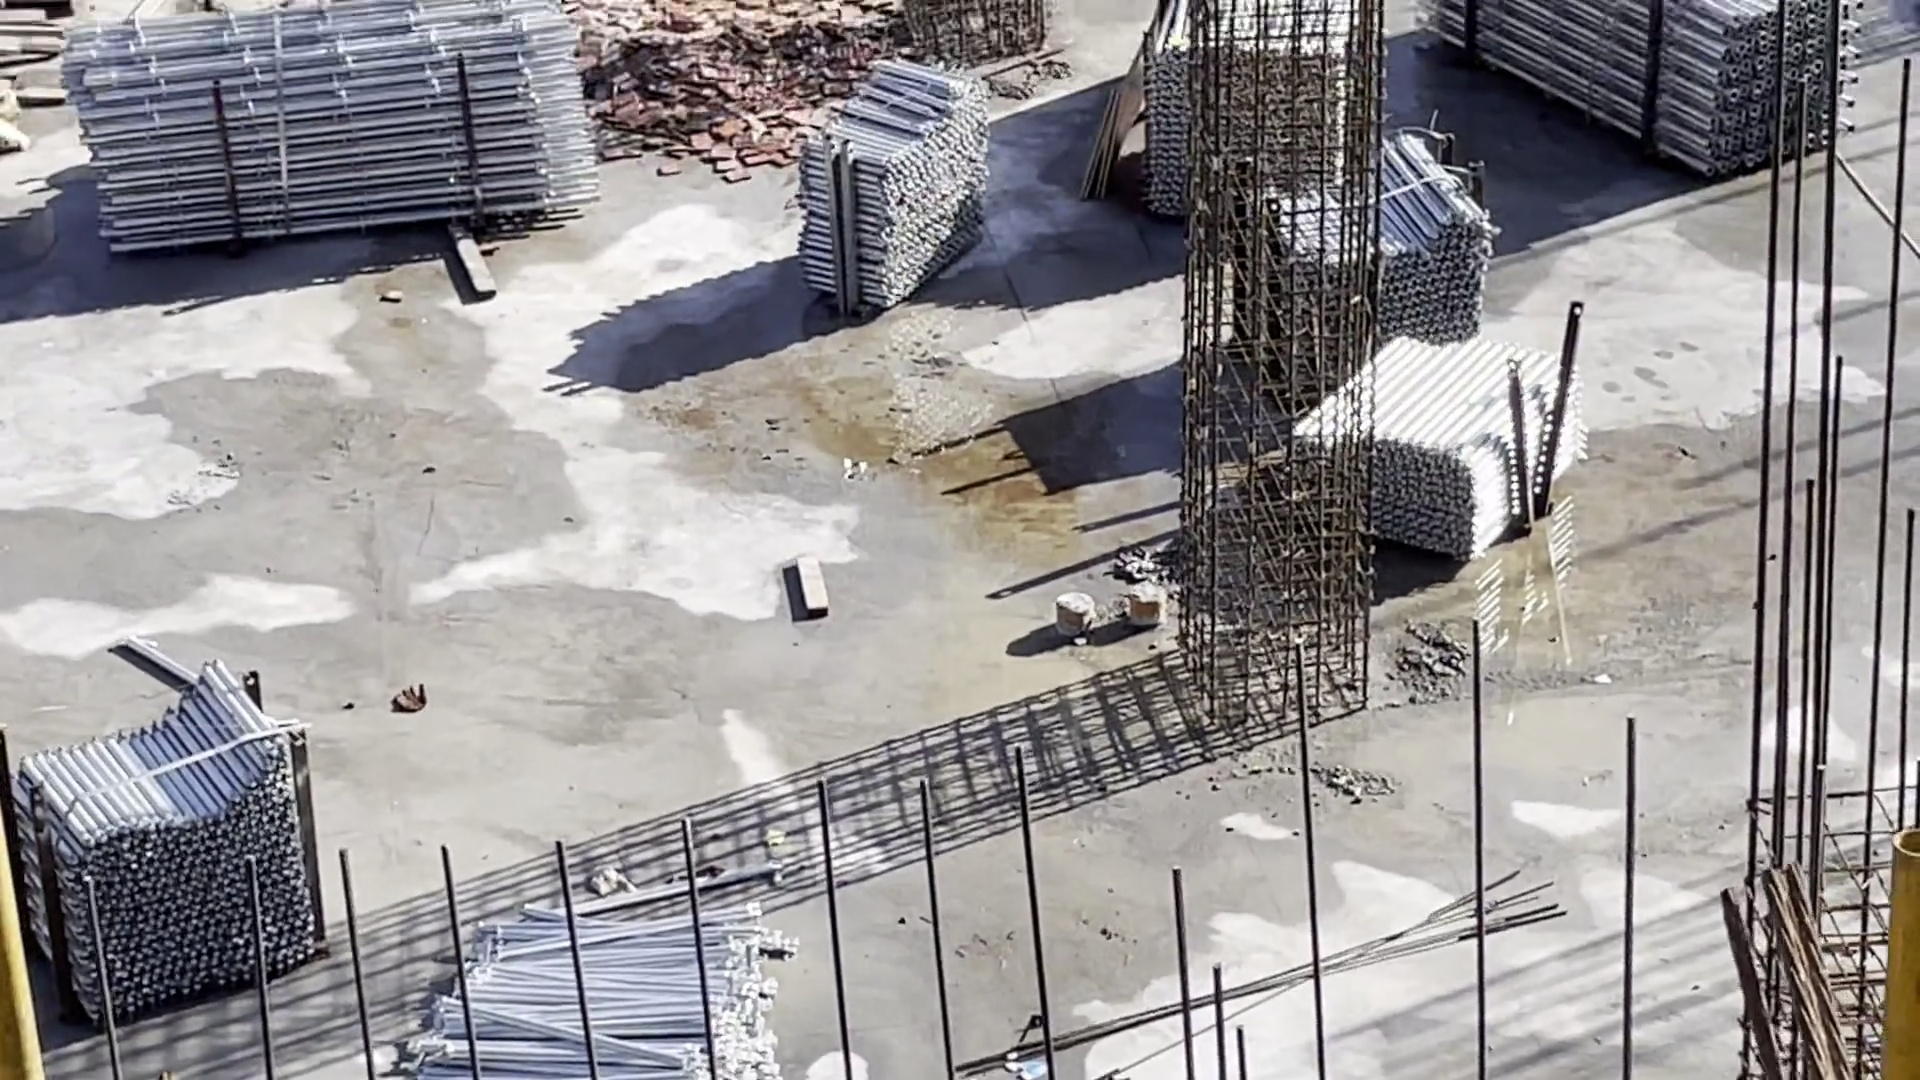scaffold: (1143, 1, 1586, 603), (58, 9, 611, 253), (15, 659, 332, 1022), (1420, 4, 1873, 181), (415, 905, 804, 1080), (796, 61, 985, 316)
